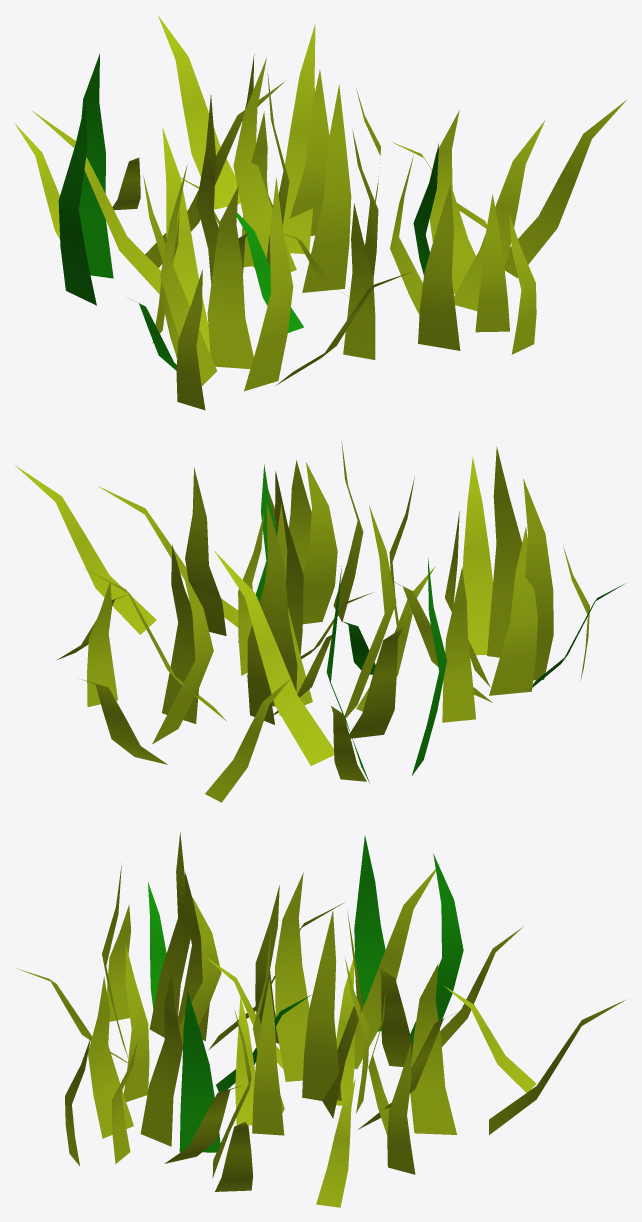
Rendered from LowPollyGrass03.fbx.
3 renders of one model, top to bottom at view 1: azimuth 30°, elevation 25°; view 2: azimuth 150°, elevation 25°; view 3: azimuth 270°, elevation 25°, orthographic. The views are drawn at different scales.
Parts seen in each view (by area): view 1: grass.003; view 2: grass.003; view 3: grass.003.
Part boxes in pixels (x1=…): grass.003: x1=15, y1=15, x2=626, y2=410; grass.003: x1=15, y1=442, x2=624, y2=802; grass.003: x1=16, y1=832, x2=625, y2=1207.
Bounding box in the file's own units: 1609 × 586 × 1618.
